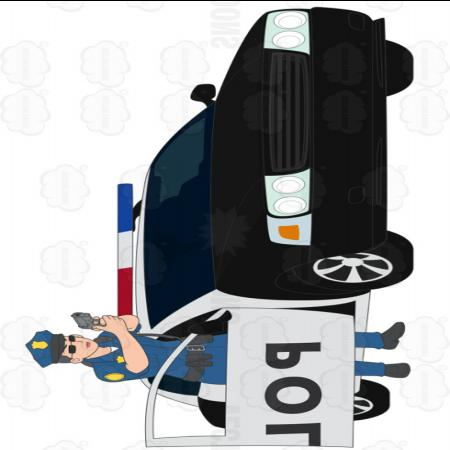Pistol: (66, 307, 113, 333)
